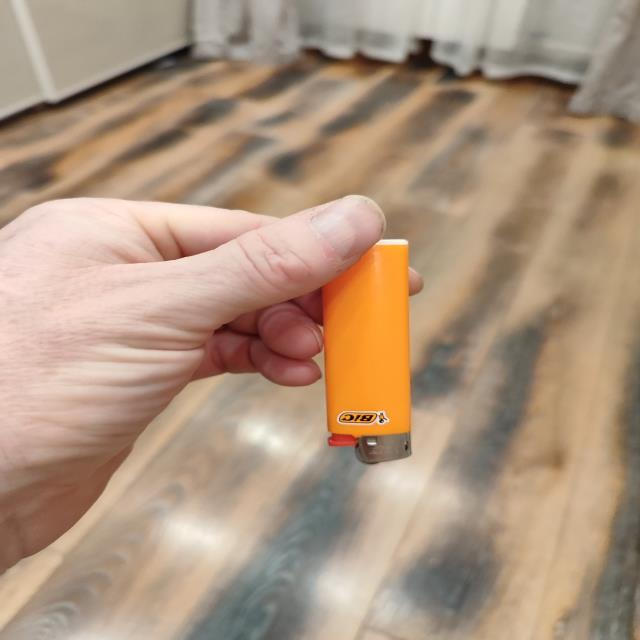lighter: (322, 241, 410, 463)
